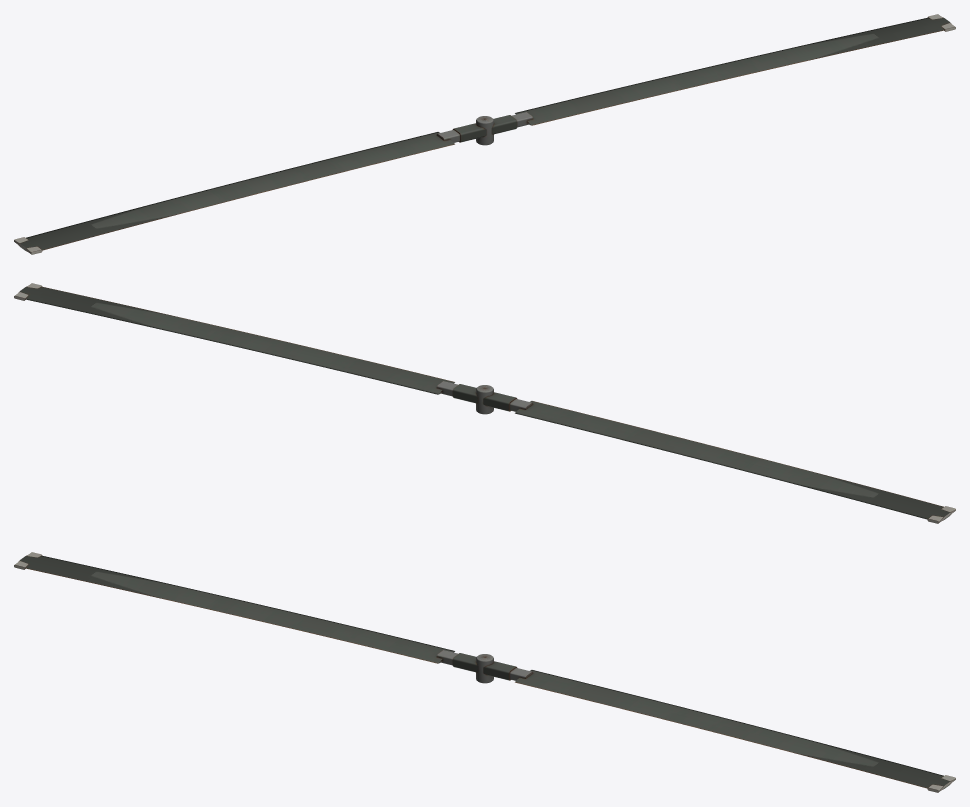
File: helicopter_rotor.glb
The picture shows the model from 3 angles, top to bottom: view 1: azimuth 30°, elevation 25°; view 2: azimuth 150°, elevation 25°; view 3: azimuth 330°, elevation 25°; orthographic projection.
Parts seen in each view (by area): view 1: helicopter_rotor; view 2: helicopter_rotor; view 3: helicopter_rotor.
Part boxes in pixels (box(x1,y1,x2,y2)): helicopter_rotor: box(14, 14, 955, 254); helicopter_rotor: box(14, 283, 955, 523); helicopter_rotor: box(14, 552, 955, 792).
Bounding box in the file's own units: 10.16 × 0.24 × 0.33.
1 material, 1 textured.
